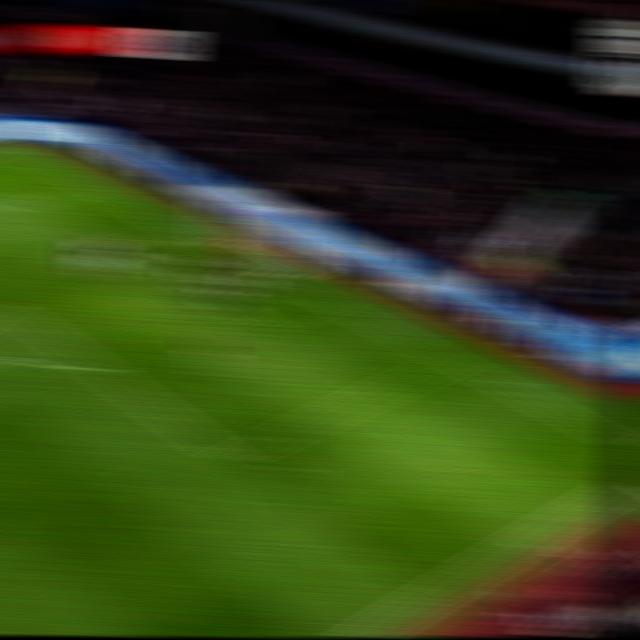bigarea_bottom_inner: (212, 443, 250, 470)
bigarea_bottom_outter: (435, 353, 469, 367)
bigarea_top_outter: (80, 182, 110, 194)
bottom_arc_area_intersection: (79, 357, 116, 376)
corner: (0, 143, 24, 152)
smallarea_bottom_inner: (250, 315, 285, 334)
smallarea_bottom_outter: (313, 291, 346, 309)
smallarea_top_outter: (154, 218, 188, 233)
